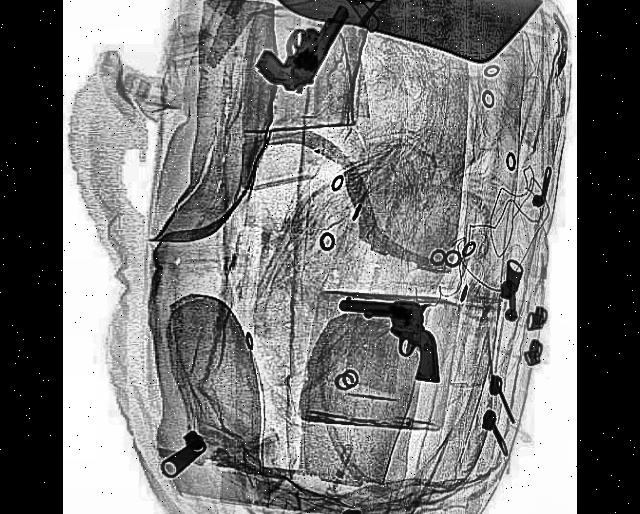Gun: (252, 0, 350, 109), (334, 293, 442, 381)
Knife: (269, 0, 541, 73)
